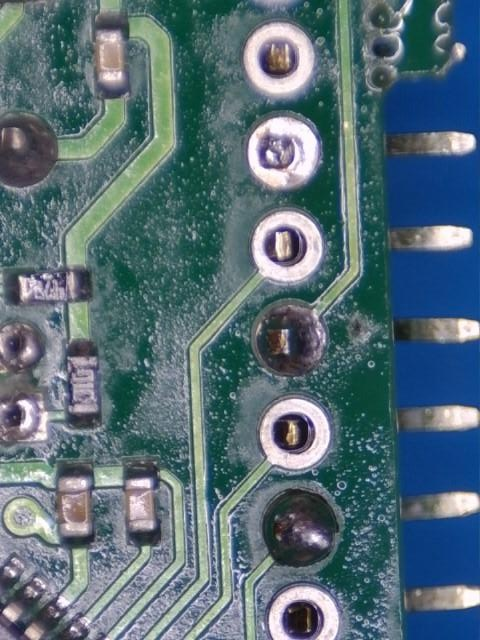pcb_defect: (264, 490, 339, 566), (248, 117, 319, 186)
